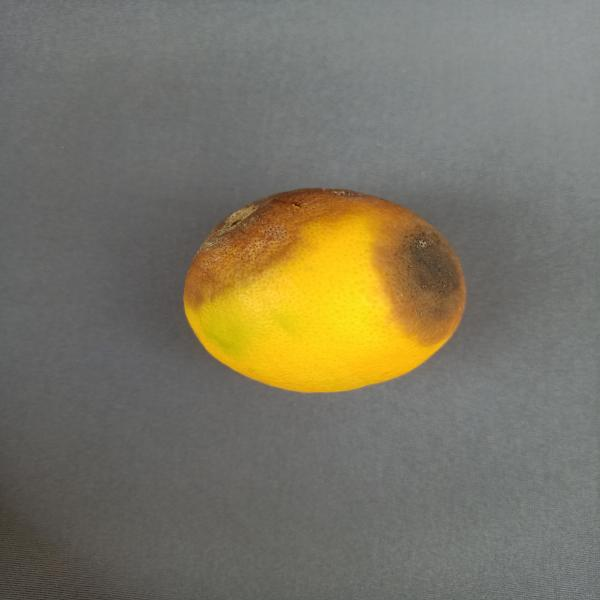Scab: (166, 168, 498, 407)
